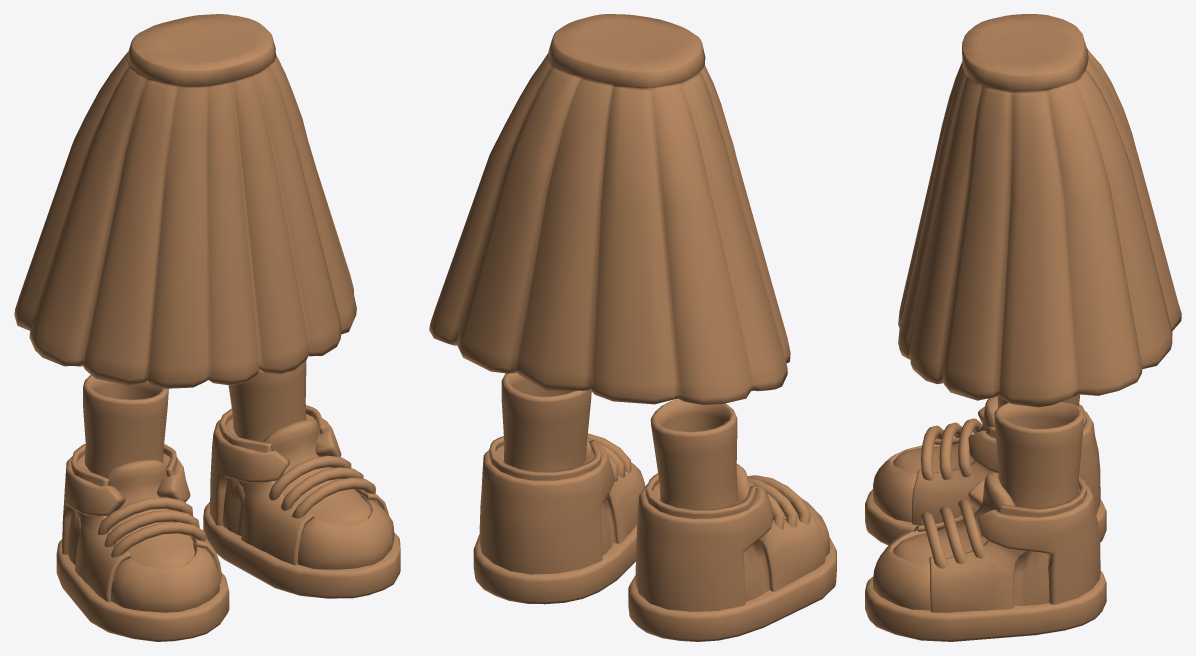
Rendered from skirt2.fbx.
3 views of the same model, side by side, from view 1: azimuth 30°, elevation 25°; view 2: azimuth 150°, elevation 25°; view 3: azimuth 270°, elevation 25° (orthographic). The views are drawn at different scales.
Parts seen in each view (by area): view 1: skirt_l; view 2: skirt_l; view 3: skirt_l.
Boxes of the visible parts, <box> form: skirt_l: <box>14,14,400,641</box>; skirt_l: <box>429,14,836,641</box>; skirt_l: <box>865,14,1181,641</box>.
Size of the model in its own units: 47.17 by 76.21 by 41.53.
